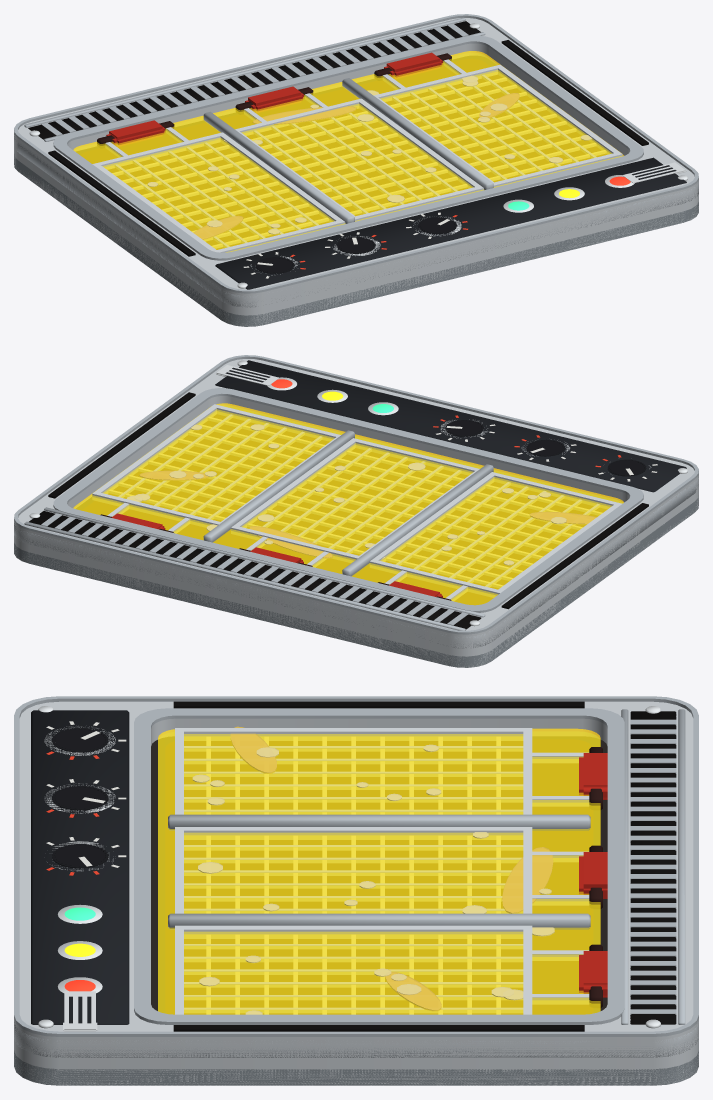
File: fryer.glb
3 views of the same model, one above another, from view 1: azimuth 30°, elevation 25°; view 2: azimuth 150°, elevation 25°; view 3: azimuth 270°, elevation 25° (orthographic). The views are drawn at different scales.
Visible parts, largest first — view 1: Fryer; view 2: Fryer; view 3: Fryer.
Boxes of the visible parts, <box> form: Fryer: <box>14,14,698,326</box>; Fryer: <box>14,355,698,667</box>; Fryer: <box>14,696,698,1085</box>.
Size of the model in its own units: 7 by 0.5 by 6.
